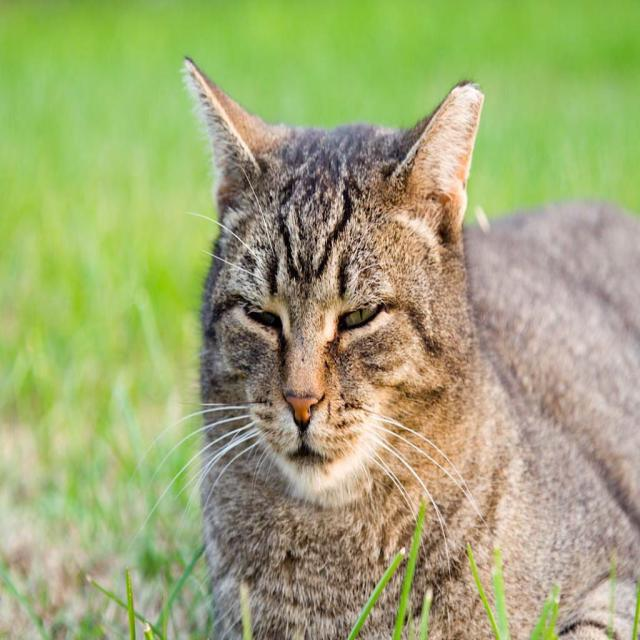Cat: (126, 50, 639, 638)
